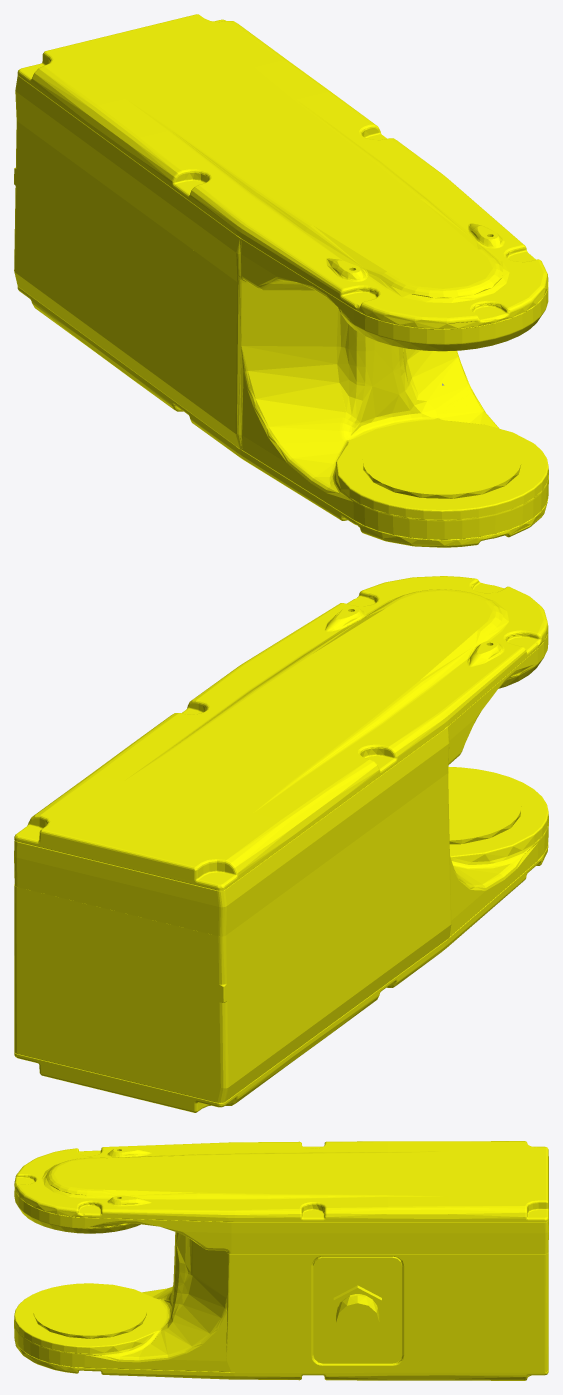
3 views of the same model, one above another, from view 1: azimuth 30°, elevation 25°; view 2: azimuth 150°, elevation 25°; view 3: azimuth 270°, elevation 25° (orthographic). The views are drawn at different scales.
Parts seen in each view (by area): view 1: node; view 2: node; view 3: node.
Part boxes in pixels (x1,y1,x2,y2): node: (14, 14, 548, 547); node: (14, 576, 548, 1112); node: (14, 1141, 548, 1380).
Size of the model in its own units: 100 by 95 by 265.
